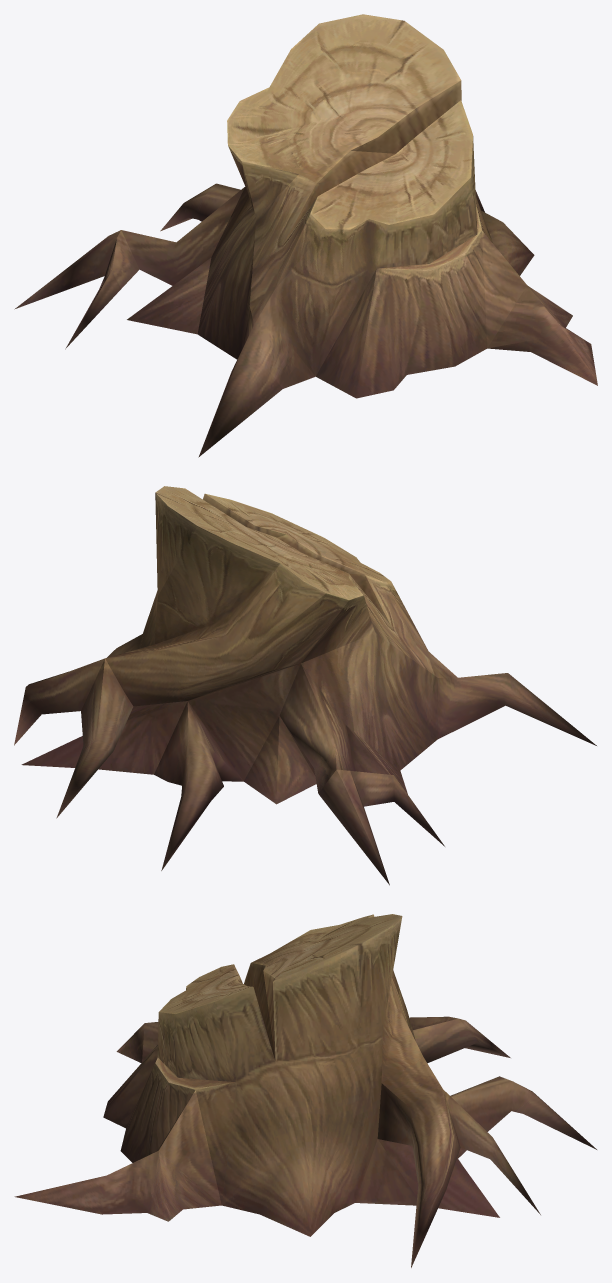
The model's file is shuzhuang06.FBX.
3 renders of one model, top to bottom at view 1: azimuth 30°, elevation 25°; view 2: azimuth 150°, elevation 25°; view 3: azimuth 270°, elevation 25°, orthographic.
Visible parts, largest first — view 1: UE050; view 2: UE050; view 3: UE050.
Boxes of the visible parts, x1,y1,x2,y2 form: UE050: (14, 14, 597, 457); UE050: (14, 486, 596, 885); UE050: (14, 914, 596, 1267).
Size of the model in its own units: 115 by 66.74 by 131.
